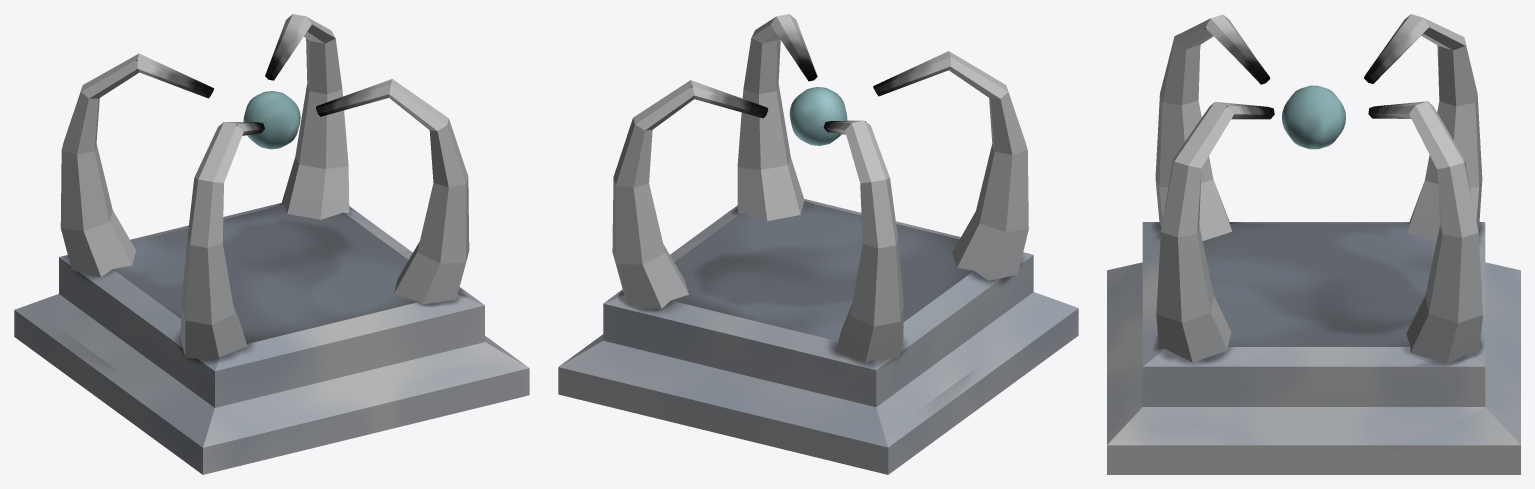
The model's file is antimaterial.fbx.
3 views of the same model, side by side, from view 1: azimuth 30°, elevation 25°; view 2: azimuth 150°, elevation 25°; view 3: azimuth 270°, elevation 25° (orthographic). The views are drawn at different scales.
Parts seen in each view (by area): view 1: AntimaterialBase.001, Sphere; view 2: AntimaterialBase.001, Sphere; view 3: AntimaterialBase.001, Sphere.
Boxes of the visible parts, x1=… form: AntimaterialBase.001: x1=14, y1=14, x2=529, y2=474; Sphere: x1=243, y1=91, x2=300, y2=149; AntimaterialBase.001: x1=558, y1=14, x2=1078, y2=474; Sphere: x1=789, y1=87, x2=847, y2=145; AntimaterialBase.001: x1=1107, y1=14, x2=1520, y2=474; Sphere: x1=1282, y1=85, x2=1345, y2=149.
Bounding box in the file's own units: 2.42 × 2.1 × 2.42.
Materials: 2 (2 with a texture image).
